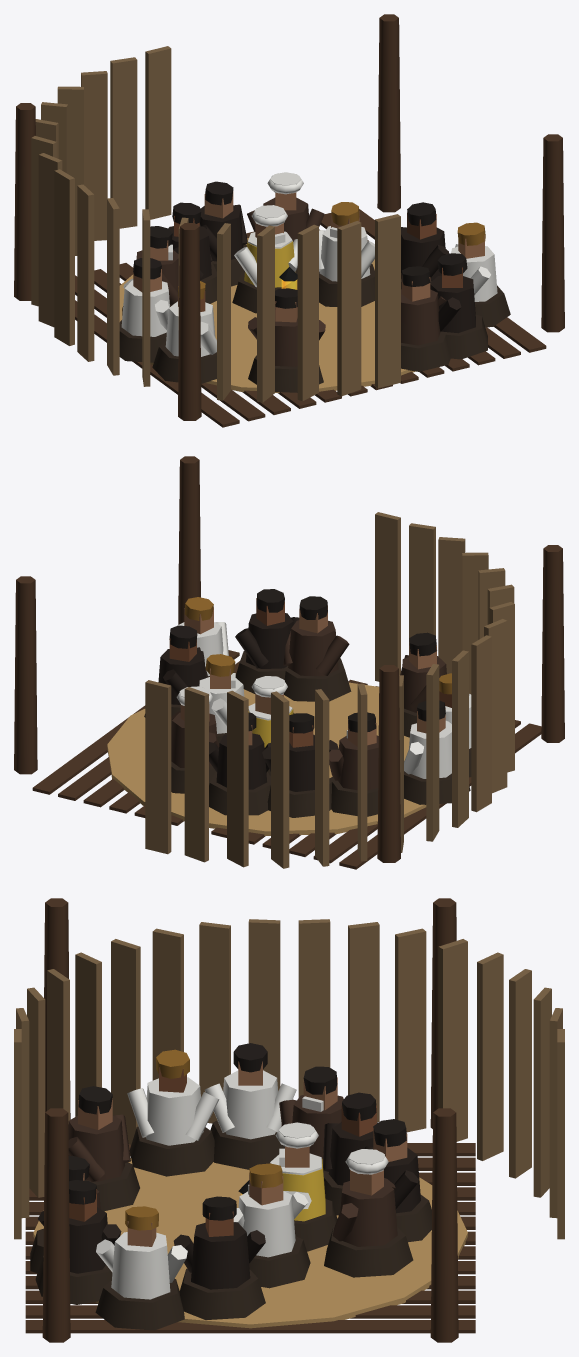
The model's file is 12.banten_1888_meeting_scene.glb.
3 renders of one model, top to bottom at view 1: azimuth 30°, elevation 25°; view 2: azimuth 150°, elevation 25°; view 3: azimuth 270°, elevation 25°, orthographic. The views are drawn at different scales.
Size of the model in its own units: 6.91 by 3.31 by 7.1.
